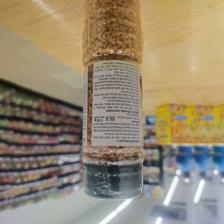TayNinh_green: (80, 1, 143, 200)
